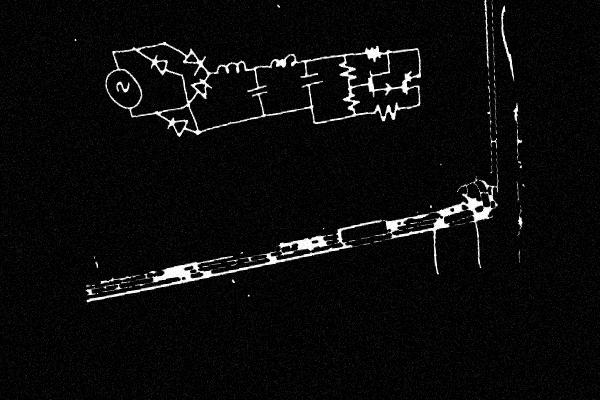capacitor: (296, 67, 326, 95), (245, 81, 269, 101)
diode: (179, 42, 210, 78), (163, 111, 192, 142), (188, 75, 216, 103), (146, 51, 170, 79)
inductor: (210, 58, 252, 80), (263, 50, 301, 72)
resistor: (368, 98, 407, 125), (335, 56, 361, 87), (357, 42, 388, 67), (339, 88, 363, 116)
signal: (101, 60, 146, 116)
